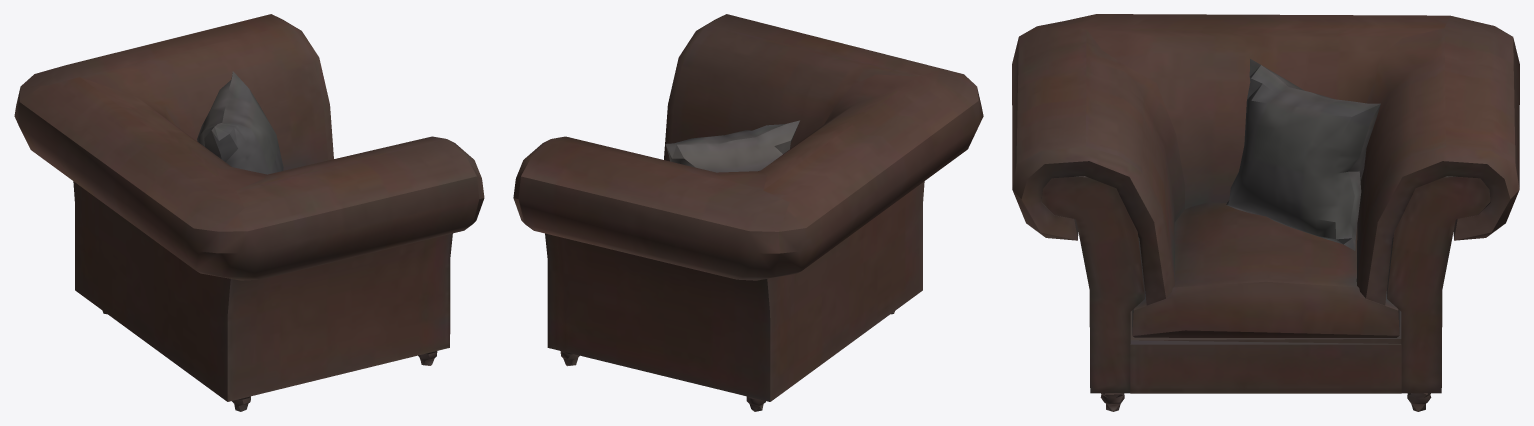
Rendered from armchair-leather.lod1.glb.
3 renders of one model, left to right at view 1: azimuth 30°, elevation 25°; view 2: azimuth 150°, elevation 25°; view 3: azimuth 270°, elevation 25°, orthographic. The views are drawn at different scales.
Visible parts, largest first — view 1: armchair-leather; view 2: armchair-leather; view 3: armchair-leather.
Part boxes in pixels (x1,y1,x2,y2): armchair-leather: [14, 14, 484, 411]; armchair-leather: [513, 14, 983, 411]; armchair-leather: [1012, 14, 1519, 411].
Size of the model in its own units: 0.9254 by 0.7399 by 1.28.
1 material, 1 textured.
